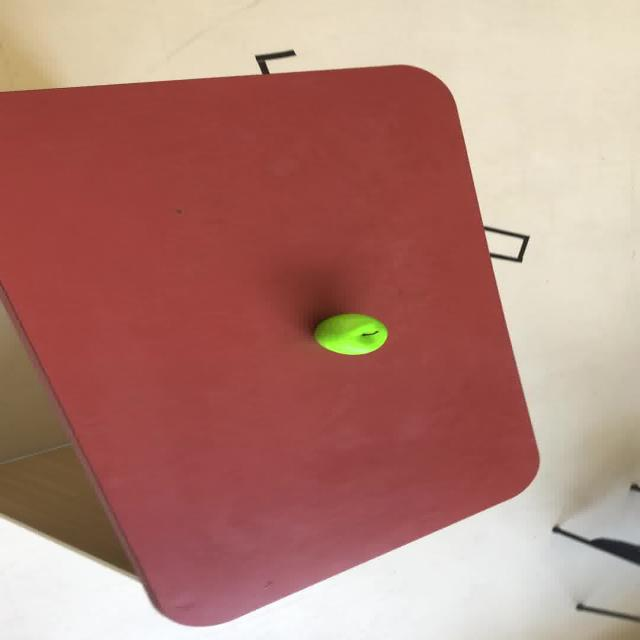apple: (312, 312, 388, 355)
